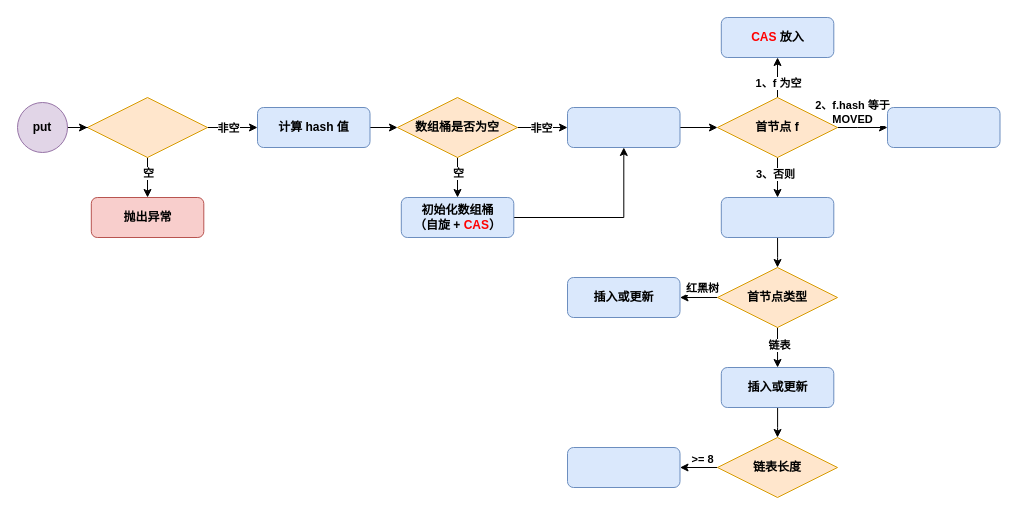
The diagram is 1018 pixels wide and 515 high, and some of its shapes have lost their labels. The centre of each missing label's shape, as x and y in pixels:
"key 和 value 是否为空" belongs at (x=147, y=127).
"synchronized 锁住首节点 f" belongs at (x=777, y=217).
"帮助扩容" belongs at (x=943, y=127).
"找到目标位置" belongs at (x=623, y=127).
"转换为红黑树" belongs at (x=623, y=467).
